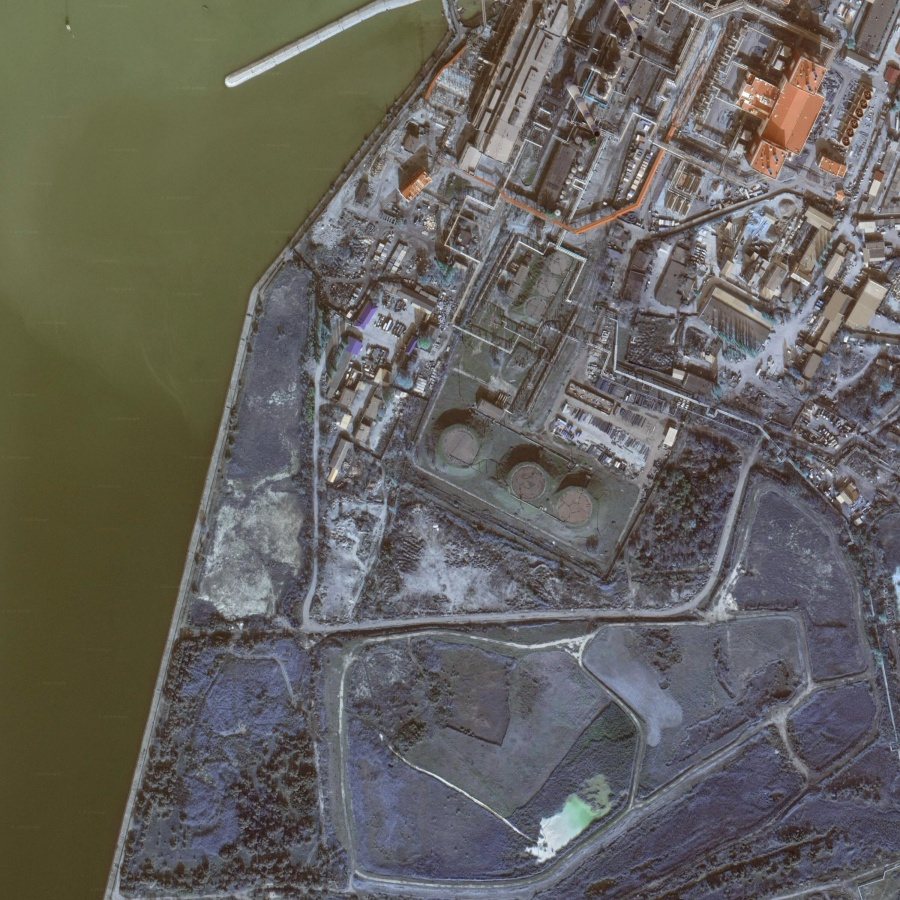PowerPlant: (423, 244, 609, 538)
